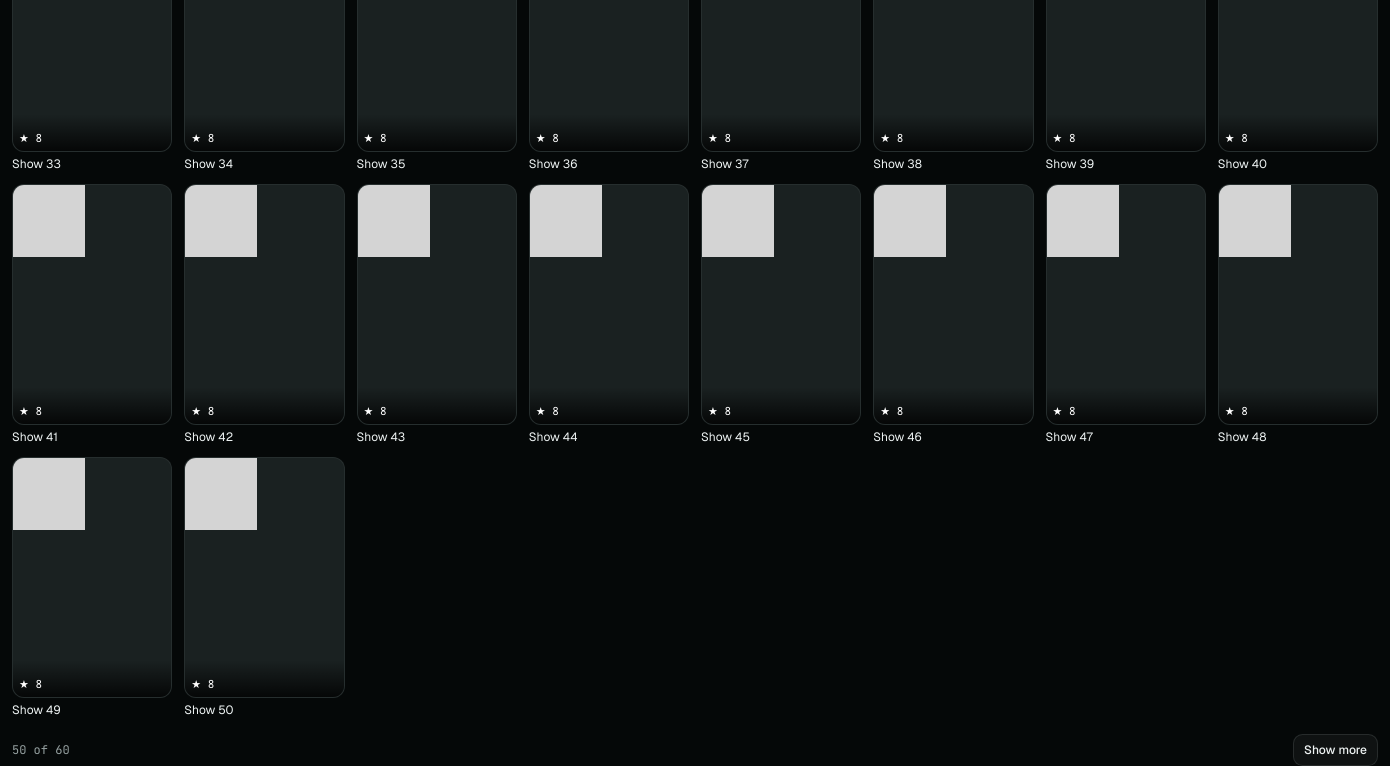
Test: LibrarySection › fetches the active tab's page and pages on through Show more
(page scrolled)
Expected: the text "50 of 60" is shown, [12,742,70,758]
What coordinates should you click on to do the following:
click the button "Show more"
I would click on:
 (1335, 750)
Its box is [1293,734,1378,765].
(page scrolled)
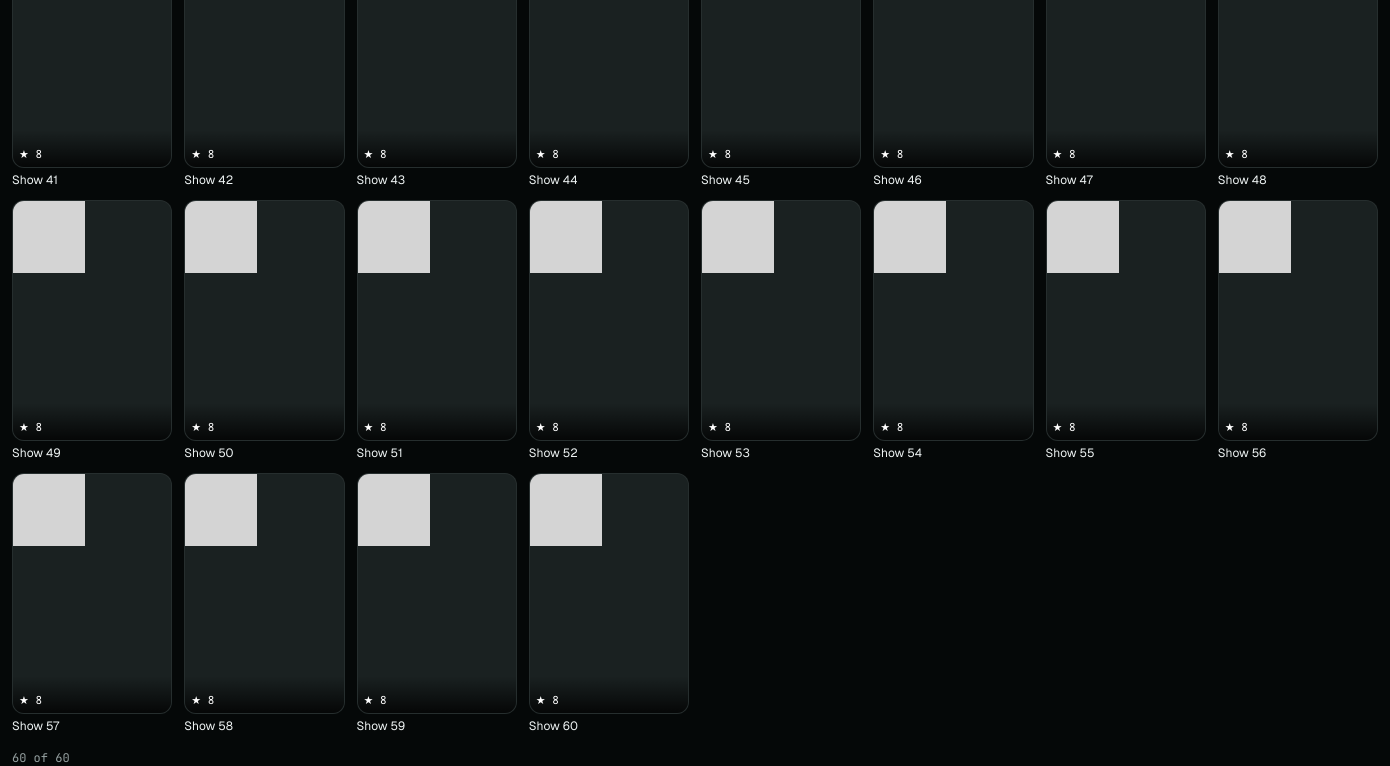
Result: the text "Show 60" is shown at [529,718,578,734]
Result: the text "60 of 60" is shown at [12,750,70,765]
Result: the button "Show more" is gone
